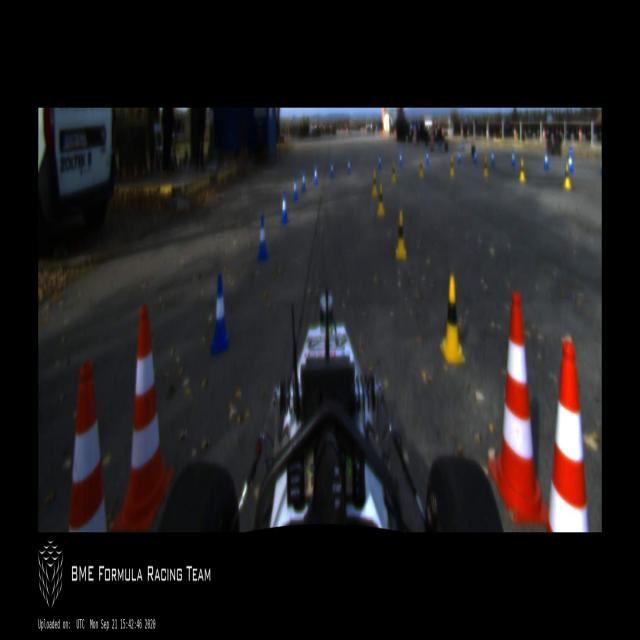blue_cone: (208, 270, 230, 353), (256, 214, 268, 260), (280, 188, 289, 223), (543, 147, 550, 170), (292, 175, 298, 200), (568, 151, 574, 174), (346, 156, 352, 176), (490, 146, 496, 165), (329, 158, 335, 177), (301, 169, 306, 191), (511, 149, 516, 168), (398, 147, 403, 165), (473, 147, 478, 165), (314, 165, 318, 186), (378, 153, 382, 170), (425, 149, 429, 166), (458, 148, 462, 164)
large_orange_cone: (488, 292, 552, 523), (112, 304, 175, 532), (544, 338, 590, 532), (67, 363, 109, 532)
yellow_cone: (438, 274, 466, 363), (394, 211, 407, 260), (377, 184, 385, 216), (518, 157, 526, 184), (371, 169, 377, 197), (564, 162, 570, 187), (418, 157, 424, 178), (391, 161, 396, 182), (483, 156, 488, 177), (449, 156, 454, 176)
